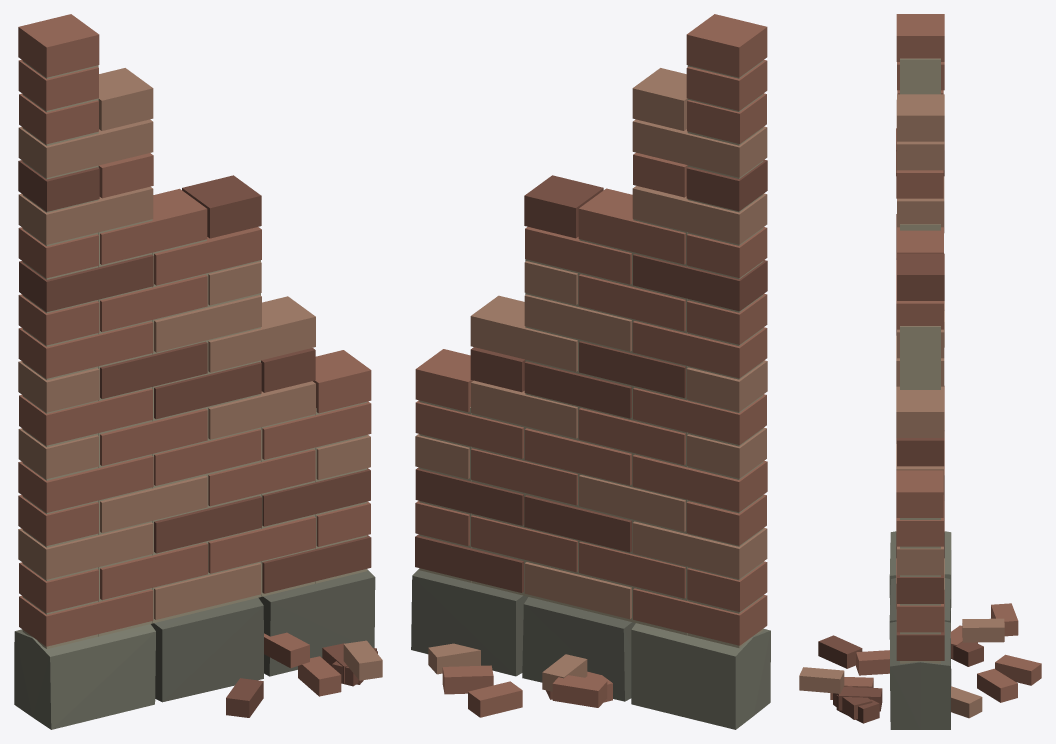
File: wall_brick_ruin.glb
3 renders of one model, left to right at view 1: azimuth 30°, elevation 25°; view 2: azimuth 150°, elevation 25°; view 3: azimuth 270°, elevation 25°, orthographic. The views are drawn at different scales.
Parts seen in each view (by area): view 1: Wall_Brick_Ruin; view 2: Wall_Brick_Ruin; view 3: Wall_Brick_Ruin.
Part boxes in pixels (bbox=[...]): Wall_Brick_Ruin: bbox=[14, 14, 382, 729]; Wall_Brick_Ruin: bbox=[411, 14, 770, 729]; Wall_Brick_Ruin: bbox=[799, 14, 1041, 729].
Bounding box in the file's own units: 1.52 × 3.05 × 1.15.
